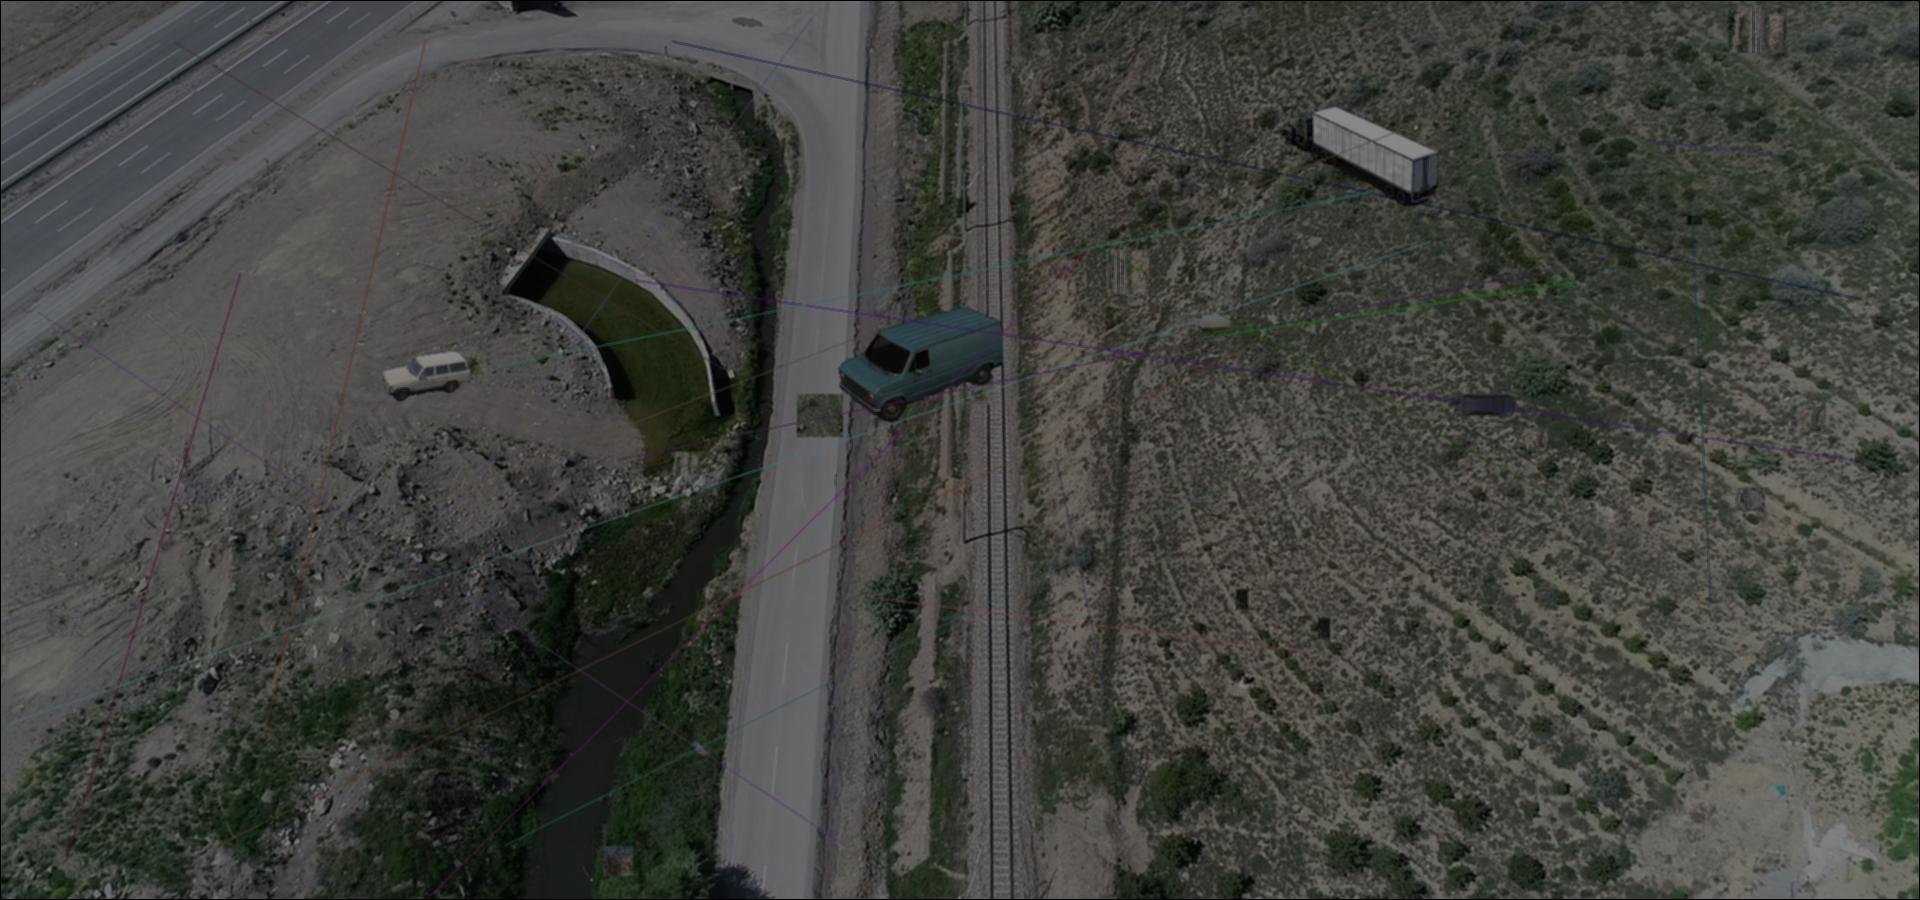arac: (836, 304, 1003, 422), (1273, 93, 1440, 207), (381, 351, 470, 402), (1460, 392, 1516, 418)
